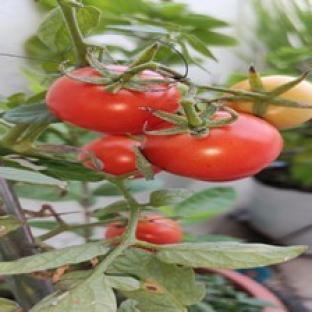Tomato: (141, 113, 282, 181), (46, 76, 181, 133), (262, 81, 311, 129), (83, 136, 140, 175), (137, 215, 182, 245)
